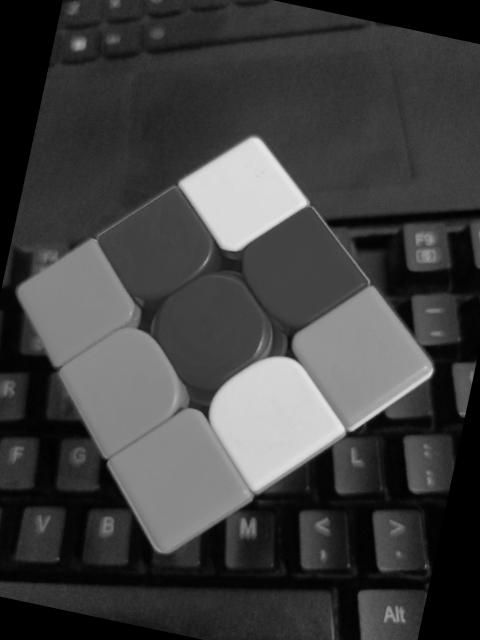rubik: (0, 92, 474, 601)
